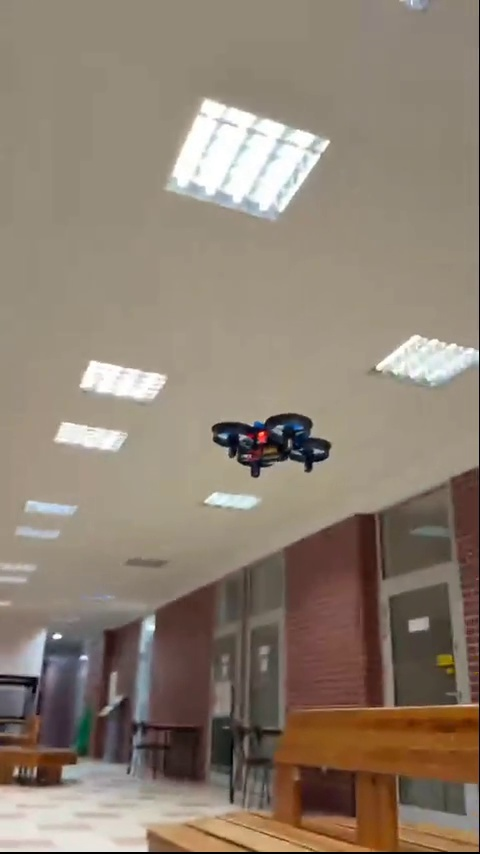drone: (207, 404, 330, 481)
